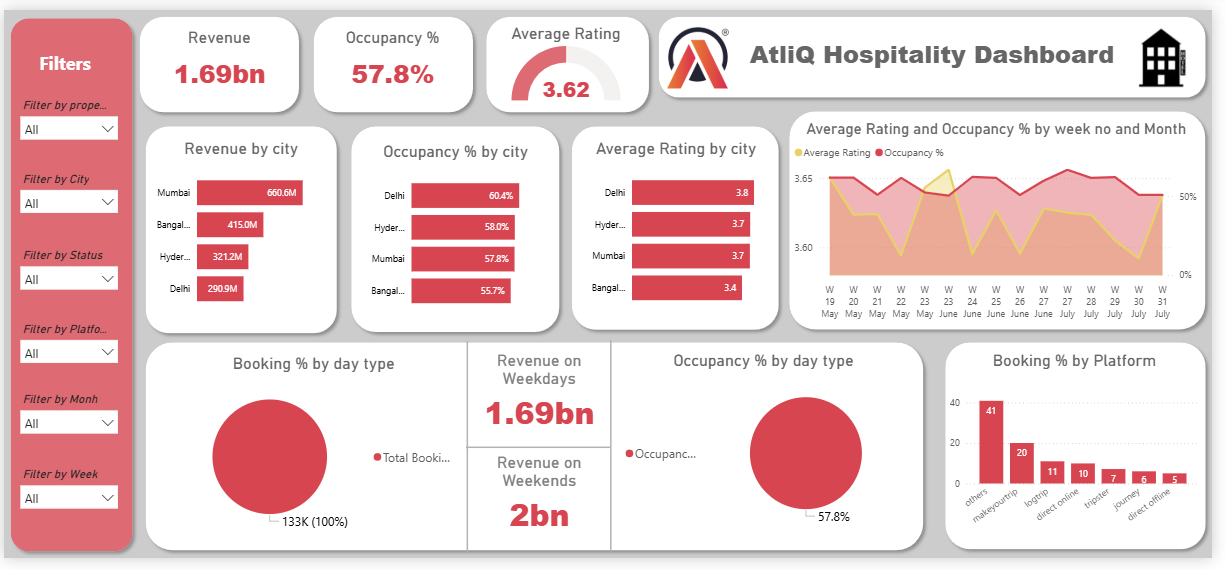

What the dashboard file says about the page in this screenshot:
{"tool":"powerbi","page":{"name":"Overall","canvas":[1610,730],"ordinal":0},"visuals":[{"type":"shape","box":[0,1.5,180.3,728.8],"z":0},{"type":"slicer","fields":{"Values":["dim_rooms.room_class"]},"box":[11.4,111.4,150,71.4],"z":1000},{"type":"slicer","fields":{"Values":["dim_hotels.city"]},"box":[11.4,210,150,72.9],"z":2000},{"type":"slicer","fields":{"Values":["fact_bookings.booking_status"]},"box":[11.4,312.9,150,71.4],"z":3000},{"type":"slicer","fields":{"Values":["fact_bookings.booking_platform"]},"box":[11.4,410,150,71.4],"z":4000},{"type":"slicer","fields":{"Values":["dim_date.mmm yy"]},"box":[11.4,504.3,150,71.4],"z":5000},{"type":"slicer","fields":{"Values":["dim_date.week no"]},"box":[11.4,604.3,150,71.4],"z":6000},{"type":"shape","box":[172.7,0,230.3,145.5],"z":7000},{"type":"shape","box":[403,0,230.3,145.5],"z":8000},{"type":"shape","box":[633.3,0,234.8,145.5],"z":9000},{"type":"card","title":"Revenue","fields":{"Values":["key_measures.Revenue"]},"box":[193.9,24.2,186.4,95.5],"z":10000},{"type":"card","title":"Occupancy %","fields":{"Values":["key_measures.Occupancy %"]},"box":[421.2,24.2,192.4,95.5],"z":11000},{"type":"gauge","title":"Average Rating","fields":{"Y":["key_measures.Average Rating"]},"box":[656.1,18.2,186.4,107.6],"z":12000},{"type":"shape","box":[863.6,0,747,125.8],"z":13000},{"type":"textbox","box":[981.8,30.3,510.6,66.7],"z":14000},{"type":"image","box":[1492.4,18.2,106.1,95.5],"z":15000},{"type":"shape","box":[1037.9,125.8,572.7,309.1],"z":16000},{"type":"areaChart","fields":{"Category":["dim_date.week no","dim_date.mmm yy.Variation.Date Hierarchy.Month"],"Y2":["key_measures.Occupancy %"],"Y":["key_measures.Average Rating"]},"box":[1048.5,145.5,550,274.2],"z":17000},{"type":"textbox","box":[42.9,47.1,87.1,47.1],"z":18000},{"type":"shape","box":[180.3,434.8,1054.5,295.5],"z":19000},{"type":"shape","box":[1245.5,434.8,365.2,293.9],"z":20000},{"type":"clusteredColumnChart","title":"Booking % by Platform ","fields":{"Y":["key_measures.Booking % by Platform"],"Category":["fact_bookings.booking_platform"]},"box":[1256.1,454.5,342.4,250],"z":21000},{"type":"pieChart","title":"Occupancy % by day type","fields":{"Y":["key_measures.Occupancy %"]},"box":[822.7,454.5,381.8,248.5],"z":22000},{"type":"shape","box":[453,147,295.5,292.4],"z":23000},{"type":"shape","box":[180.3,145.5,272.7,293.9],"z":24000},{"type":"shape","box":[748.5,145.5,293.9,289.4],"z":25000},{"type":"image","box":[877.3,13.6,95.5,98.5],"z":26000},{"type":"clusteredBarChart","fields":{"Category":["dim_hotels.city"],"Y":["key_measures.Average Rating"]},"box":[765.2,172.7,260.6,237.9],"z":27000},{"type":"clusteredBarChart","fields":{"Category":["dim_hotels.city"],"Y":["key_measures.Occupancy %"]},"box":[471.2,175.8,260.6,237.9],"z":28000},{"type":"clusteredBarChart","fields":{"Category":["dim_hotels.city"],"Y":["key_measures.Revenue"]},"box":[186.4,171.2,260.6,239.4],"z":29000},{"type":"pieChart","title":"Booking % by day type","fields":{"Y":["key_measures.Total Bookings"]},"box":[211,458,402,250],"z":30000},{"type":"shape","box":[616.7,551.5,192.4,62.1],"z":31000},{"type":"shape","box":[613.6,442.4,7.6,281.8],"z":32000},{"type":"shape","box":[800,439.4,18.2,281.8],"z":33000},{"type":"card","title":"Revenue on Weekdays","fields":{"Values":["key_measures.Revenue"]},"box":[621.2,454.5,183.3,115.2],"z":34000},{"type":"card","title":"Revenue on Weekends","fields":{"Values":["key_measures.Revenue"]},"box":[621.2,589.4,183.3,115.2],"z":35000}]}

Visuals, with their boxes in screenshot pixels (x1, y1, x2, y2), scaled from the page's 1610x730 canvas onto the 1226x570 screenshot:
shape: {"left": 0, "top": 1, "right": 137, "bottom": 569}
slicer - dim_rooms.room_class: {"left": 9, "top": 87, "right": 123, "bottom": 143}
slicer - dim_hotels.city: {"left": 9, "top": 164, "right": 123, "bottom": 221}
slicer - fact_bookings.booking_status: {"left": 9, "top": 244, "right": 123, "bottom": 300}
slicer - fact_bookings.booking_platform: {"left": 9, "top": 320, "right": 123, "bottom": 376}
slicer - dim_date.mmm yy: {"left": 9, "top": 394, "right": 123, "bottom": 450}
slicer - dim_date.week no: {"left": 9, "top": 472, "right": 123, "bottom": 528}
shape: {"left": 132, "top": 0, "right": 307, "bottom": 114}
shape: {"left": 307, "top": 0, "right": 482, "bottom": 114}
shape: {"left": 482, "top": 0, "right": 661, "bottom": 114}
"Revenue" card: {"left": 148, "top": 19, "right": 290, "bottom": 93}
"Occupancy %" card: {"left": 321, "top": 19, "right": 467, "bottom": 93}
"Average Rating" gauge: {"left": 500, "top": 14, "right": 642, "bottom": 98}
shape: {"left": 658, "top": 0, "right": 1225, "bottom": 98}
textbox: {"left": 748, "top": 24, "right": 1136, "bottom": 76}
image: {"left": 1136, "top": 14, "right": 1217, "bottom": 89}
shape: {"left": 790, "top": 98, "right": 1225, "bottom": 340}
areaChart - dim_date.week no x dim_date.mmm yy.Variation.Date Hierarchy.Month: {"left": 798, "top": 114, "right": 1217, "bottom": 328}
textbox: {"left": 33, "top": 37, "right": 99, "bottom": 74}
shape: {"left": 137, "top": 340, "right": 940, "bottom": 569}
shape: {"left": 948, "top": 340, "right": 1225, "bottom": 569}
"Booking % by Platform " clusteredColumnChart: {"left": 957, "top": 355, "right": 1217, "bottom": 550}
"Occupancy % by day type" pieChart: {"left": 626, "top": 355, "right": 917, "bottom": 549}
shape: {"left": 345, "top": 115, "right": 570, "bottom": 343}
shape: {"left": 137, "top": 114, "right": 345, "bottom": 343}
shape: {"left": 570, "top": 114, "right": 794, "bottom": 340}
image: {"left": 668, "top": 11, "right": 741, "bottom": 88}
clusteredBarChart - dim_hotels.city x key_measures.Average Rating: {"left": 583, "top": 135, "right": 781, "bottom": 321}
clusteredBarChart - dim_hotels.city x key_measures.Occupancy %: {"left": 359, "top": 137, "right": 557, "bottom": 323}
clusteredBarChart - dim_hotels.city x key_measures.Revenue: {"left": 142, "top": 134, "right": 340, "bottom": 321}
"Booking % by day type" pieChart: {"left": 161, "top": 358, "right": 467, "bottom": 553}
shape: {"left": 470, "top": 431, "right": 616, "bottom": 479}
shape: {"left": 467, "top": 345, "right": 473, "bottom": 565}
shape: {"left": 609, "top": 343, "right": 623, "bottom": 563}
"Revenue on Weekdays" card: {"left": 473, "top": 355, "right": 613, "bottom": 445}
"Revenue on Weekends" card: {"left": 473, "top": 460, "right": 613, "bottom": 550}
